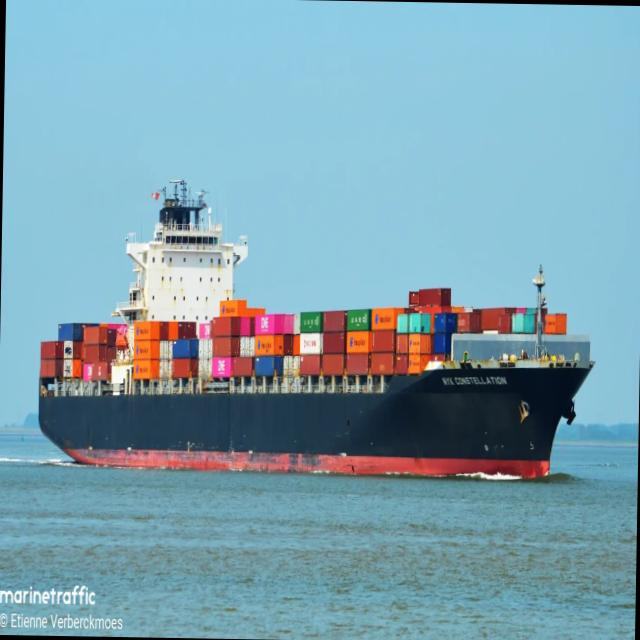Cargo: (38, 180, 592, 477)
